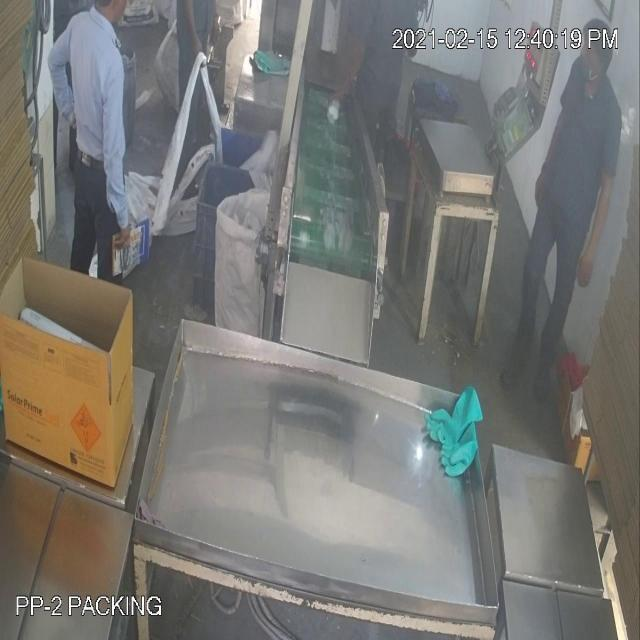No_Gloves: (28, 37, 597, 433)
